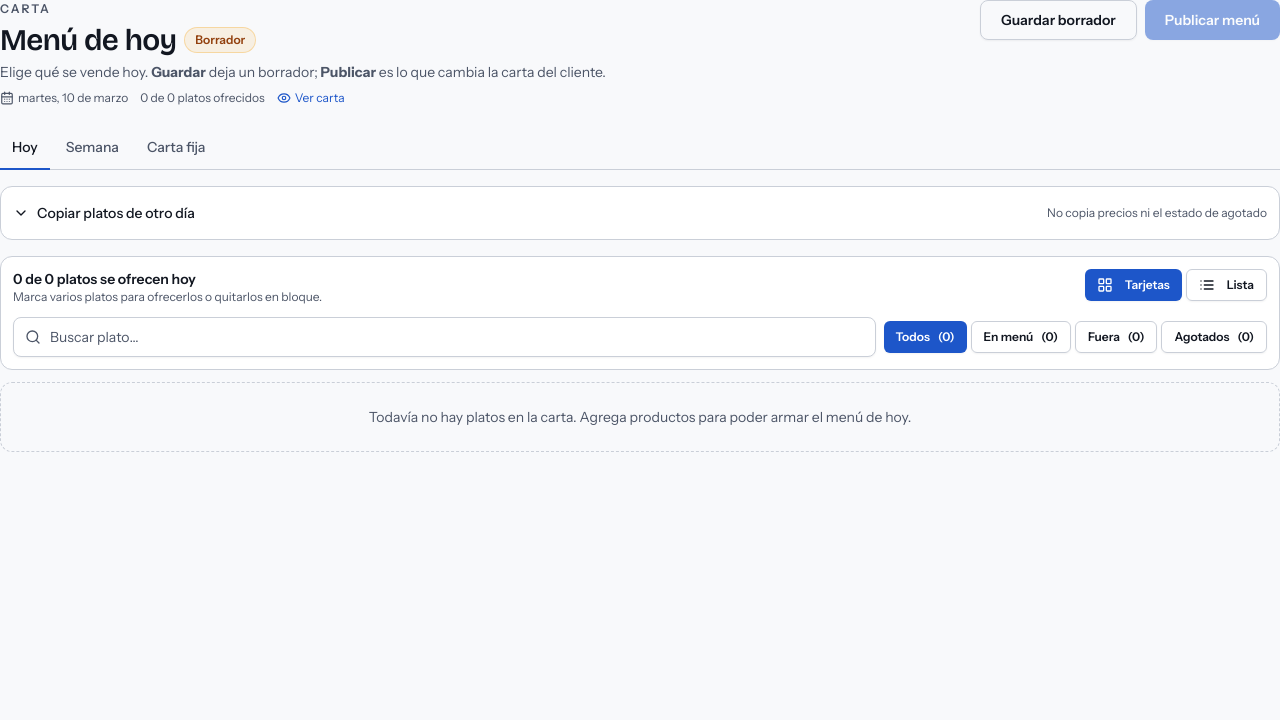
Test: fallos de carga que antes se disfrazaban de lista vacía › el menú avisa en vez de decir que no hay plantillas
Click the tab with test id "menu-tab-week" at (92, 148), box [54,126,131,170]
(page scrolled)
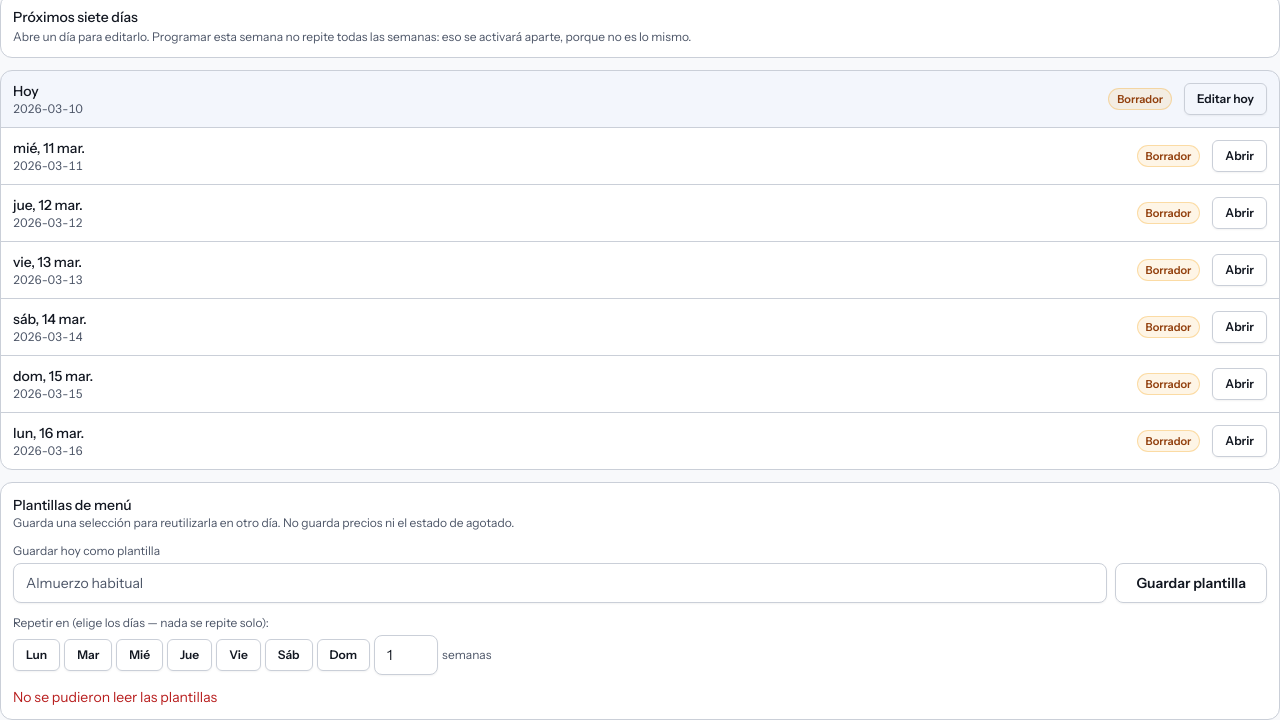
Result: the text "No se pudieron leer las plantillas" is shown at [13,688,217,706]
